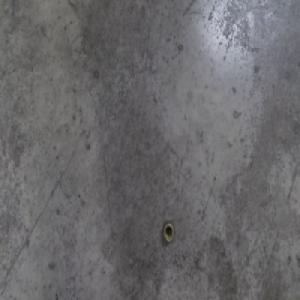Nut: (162, 220, 175, 244)
